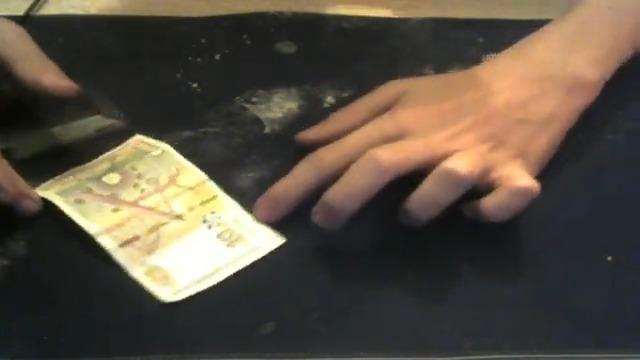10leva: (34, 131, 285, 305)
